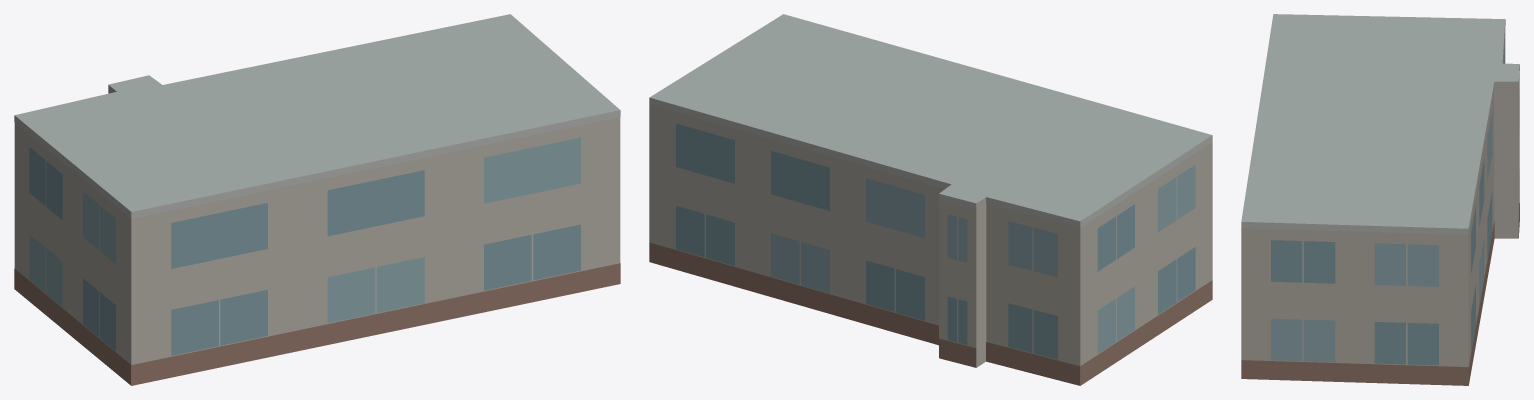
The model's file is survey-upis-32753470.glb.
3 views of the same model, side by side, from view 1: azimuth 30°, elevation 25°; view 2: azimuth 150°, elevation 25°; view 3: azimuth 270°, elevation 25° (orthographic). The views are drawn at different scales.
Parts seen in each view (by area): view 1: survey-upis-32753470.tmp; view 2: survey-upis-32753470.tmp; view 3: survey-upis-32753470.tmp.
Part boxes in pixels (x1,y1,x2,y2): survey-upis-32753470.tmp: [14, 14, 620, 385]; survey-upis-32753470.tmp: [649, 14, 1212, 385]; survey-upis-32753470.tmp: [1241, 14, 1519, 385].
Size of the model in its own units: 17.9 by 6.1 by 9.81.
